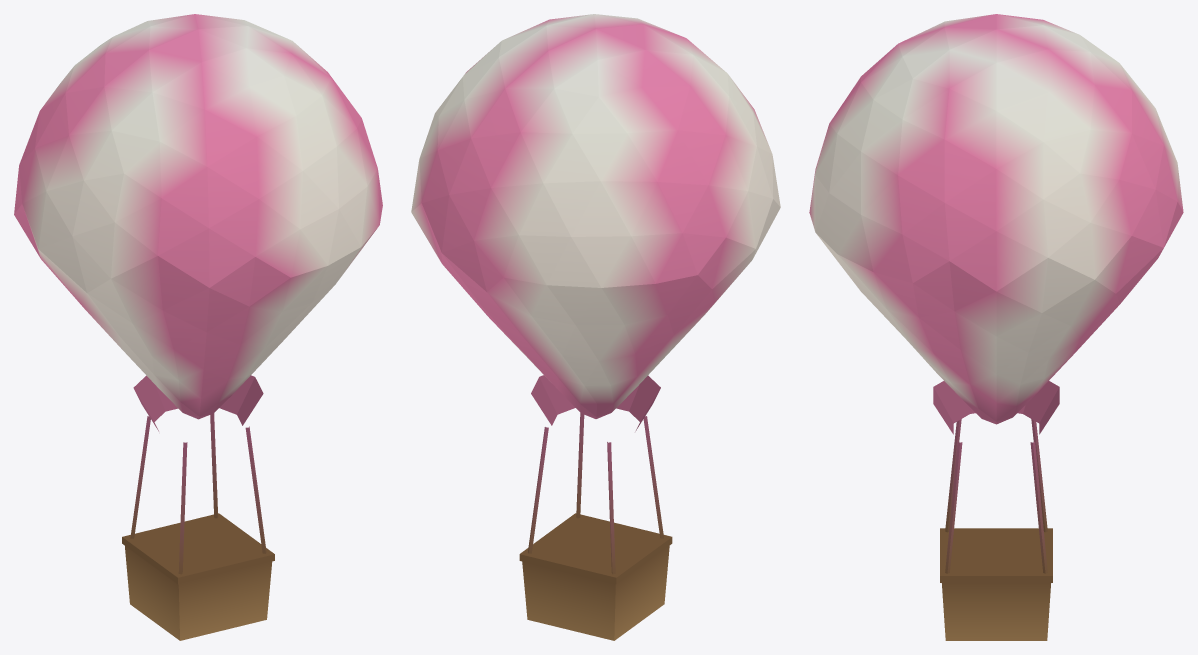
The model's file is balloon_2.glb.
3 views of the same model, side by side, from view 1: azimuth 30°, elevation 25°; view 2: azimuth 150°, elevation 25°; view 3: azimuth 270°, elevation 25° (orthographic).
Parts seen in each view (by area): view 1: balloon_2; view 2: balloon_2; view 3: balloon_2.
Boxes of the visible parts, box(x1,y1,x2,y2) form: balloon_2: box(14, 14, 382, 640); balloon_2: box(411, 14, 780, 640); balloon_2: box(809, 14, 1183, 640).
Size of the model in its own units: 3.5 by 6.09 by 3.5.
